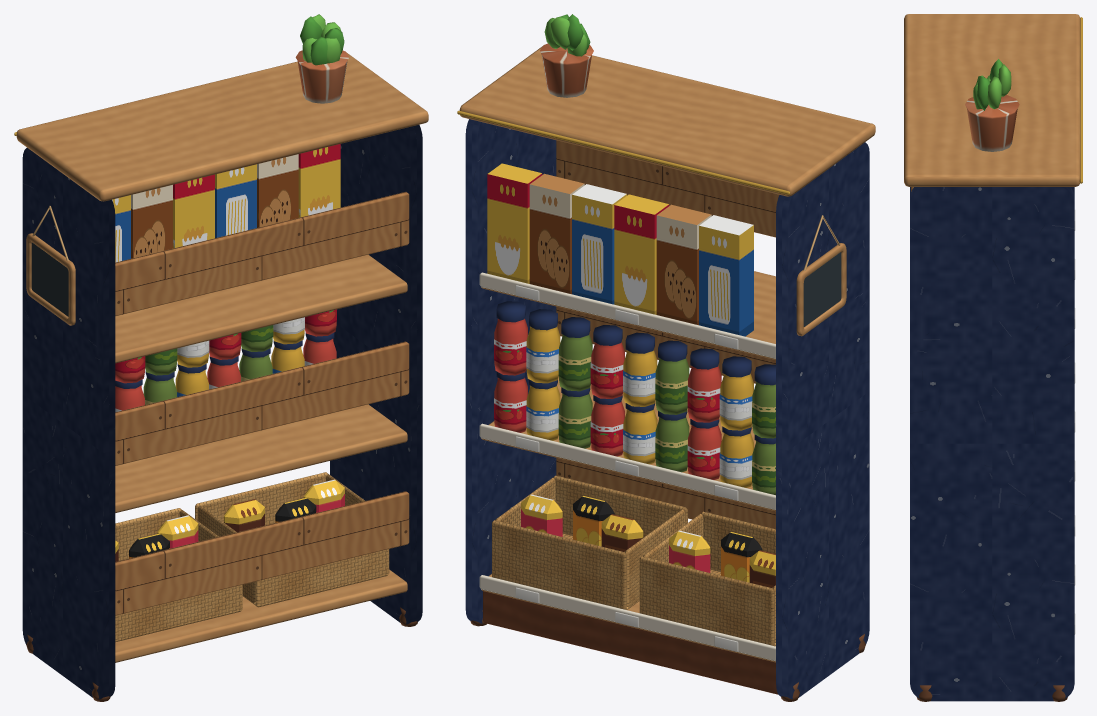
Rendered from shelf_T1.fbx.
3 renders of one model, left to right at view 1: azimuth 30°, elevation 25°; view 2: azimuth 150°, elevation 25°; view 3: azimuth 270°, elevation 25°, orthographic. The views are drawn at different scales.
Parts seen in each view (by area): view 1: Body, Anim Fill 0, Anim Fill 1, Anim Fill 2, Anim Fill 3; view 2: Body, Anim Fill 0, Anim Fill 2, Anim Fill 1, Anim Fill 3; view 3: Body.
Boxes of the visible parts, left/top/right/bottom form: Body: left=14, top=14, right=428, bottom=701; Anim Fill 0: left=224, top=144, right=344, bottom=532; Anim Fill 1: left=173, top=164, right=256, bottom=397; Anim Fill 2: left=112, top=185, right=177, bottom=412; Anim Fill 3: left=115, top=515, right=198, bottom=561; Body: left=457, top=14, right=875, bottom=701; Anim Fill 0: left=487, top=163, right=643, bottom=551; Anim Fill 2: left=655, top=204, right=753, bottom=479; Anim Fill 1: left=572, top=184, right=669, bottom=464; Anim Fill 3: left=669, top=356, right=775, bottom=587; Body: left=904, top=14, right=1082, bottom=701.
Size of the model in its own units: 0.99 by 1.71 by 0.456.
